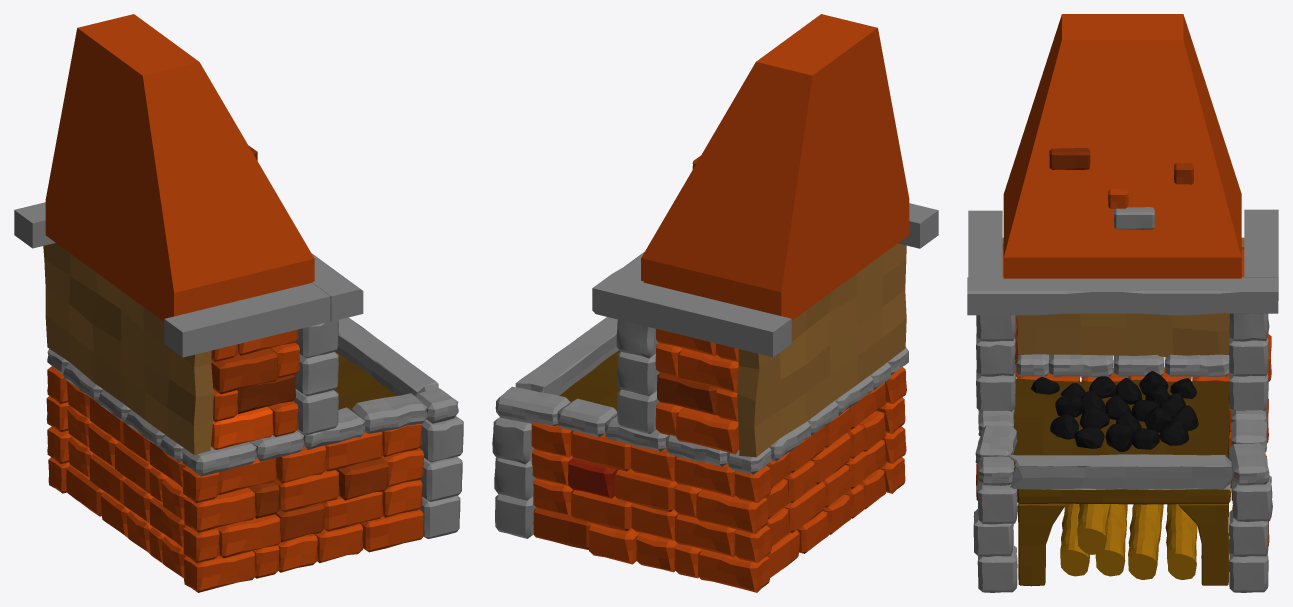
File: furnace.fbx
3 renders of one model, left to right at view 1: azimuth 30°, elevation 25°; view 2: azimuth 150°, elevation 25°; view 3: azimuth 270°, elevation 25°, orthographic. The views are drawn at different scales.
Visible parts, largest first — view 1: Cube.108, Cube.104, Cube.107, Cube.043, Cube.065, Cube.101, Cube.055, Cube.080, Cube.060, Cube.051, Cube.097, Cube.061 (+53 smaller); view 2: Cube.108, Cube.104, Cube.106, Cube.043, Cube.014, Cube.004, Cube.089, Cube.037, Cube.010, Cube.093, Cube.005, Cube.105 (+54 smaller); view 3: Cube.108, Cube.105, Cube.104, Cube.043, Plane.001, Cube.044, Cube.046, Cube.045, Cube.106, Cube.107, Cylinder.001, Cylinder (+40 smaller).
Boxes of the visible parts, x1,y1,x2,y2 form: Cube.108: (45,14,314,321); Cube.104: (43,243,213,454); Cube.107: (164,283,330,357); Cube.043: (336,317,438,396); Cube.065: (184,487,255,532); Cube.101: (211,348,278,394); Cube.055: (184,551,255,592); Cube.080: (352,393,427,433); Cube.060: (216,514,280,558); Cube.051: (360,509,423,552); Cube.097: (211,406,273,449); Cube.061: (274,470,339,512); Cube.108: (641,14,909,320); Cube.104: (737,243,906,457); Cube.106: (623,282,791,357); Cube.043: (515,317,618,395); Cube.014: (696,489,768,534); Cube.004: (698,549,769,592); Cube.089: (676,407,739,454); Cube.037: (495,386,570,425); Cube.010: (614,468,677,511); Cube.093: (678,348,738,392); Cube.005: (571,490,632,531); Cube.105: (592,252,644,320); Cube.108: (1003,14,1241,278); Cube.105: (967,277,1278,315); Cube.104: (1002,237,1244,356); Cube.043: (1008,454,1232,489); Plane.001: (1013,378,1230,465); Cube.044: (1017,483,1230,504); Cube.046: (1018,503,1065,586); Cube.045: (1178,503,1229,585); Cube.106: (1244,209,1278,300); Cube.107: (968,210,1002,277); Cylinder.001: (1128,504,1163,579); Cylinder: (1165,504,1197,579).
Bounding box in the file's own units: 401 × 649 × 401.
